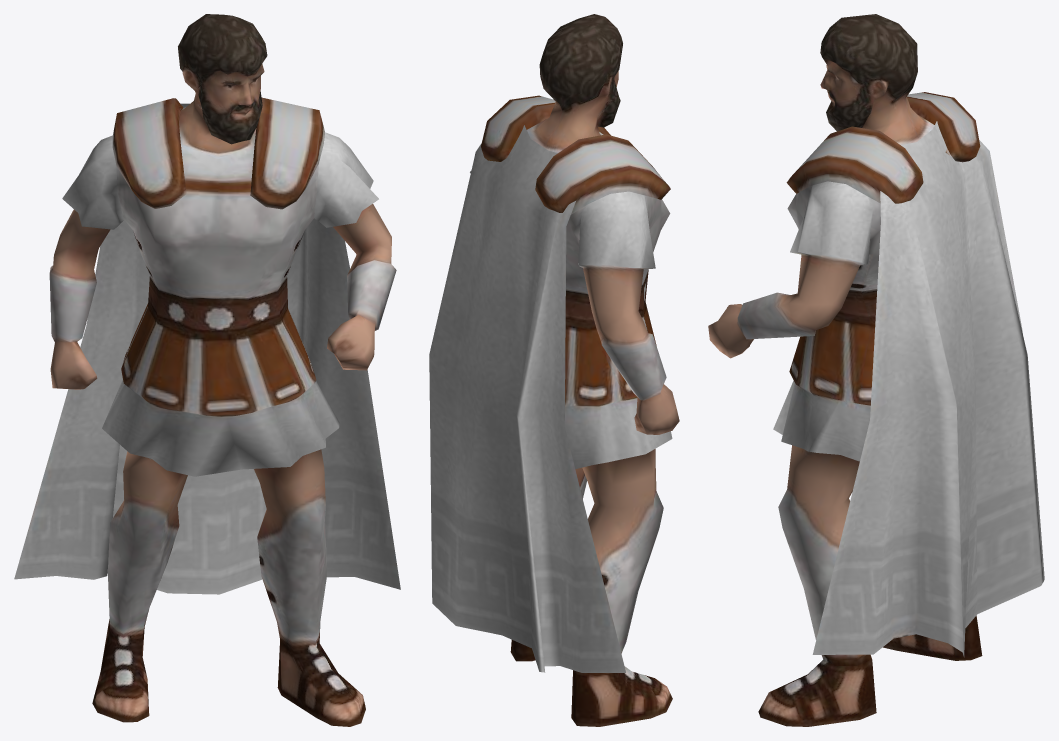
File: body-heavyarchers.glb
3 renders of one model, left to right at view 1: azimuth 30°, elevation 25°; view 2: azimuth 150°, elevation 25°; view 3: azimuth 270°, elevation 25°, orthographic. The views are drawn at different scales.
Size of the model in its own units: 0.881 by 2.06 by 0.95.
Materials: 1 (1 with a texture image).
